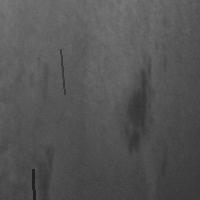inclusion: (119, 57, 156, 160), (32, 144, 60, 199), (30, 58, 55, 109), (58, 47, 66, 96), (31, 167, 36, 200)
